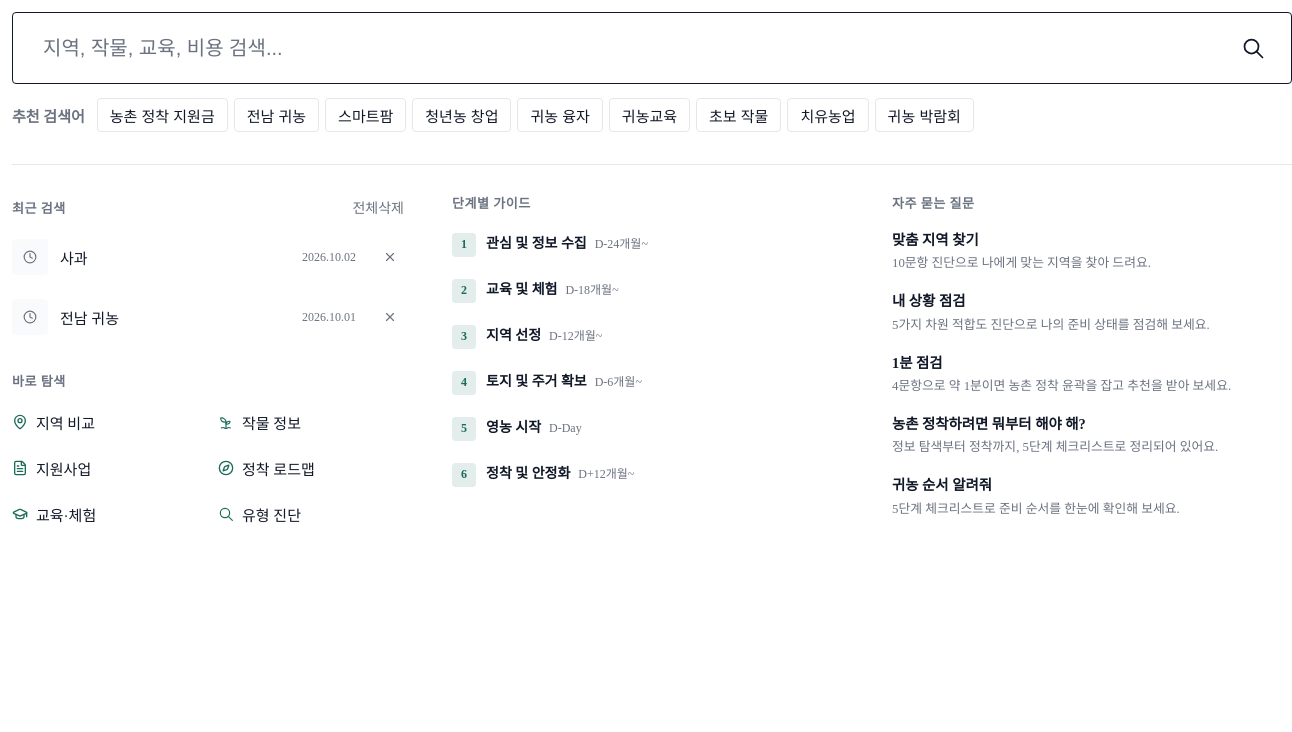
Test: 옵션 안에 대화형 요소가 없다 — 삭제·채우기 버튼은 listbox 밖 형제 (10/3 QA axe nested-interactive) › 자동완성: option 안 button 0, 채우기 버튼은 listbox 밖 — 누르면 입력창만 채운다
In the dropdown with placeholder "지역, 작물, 교육, 비용 검색...": (630, 48) [41,13,1219,83], type "사과"
Wait 200 ms
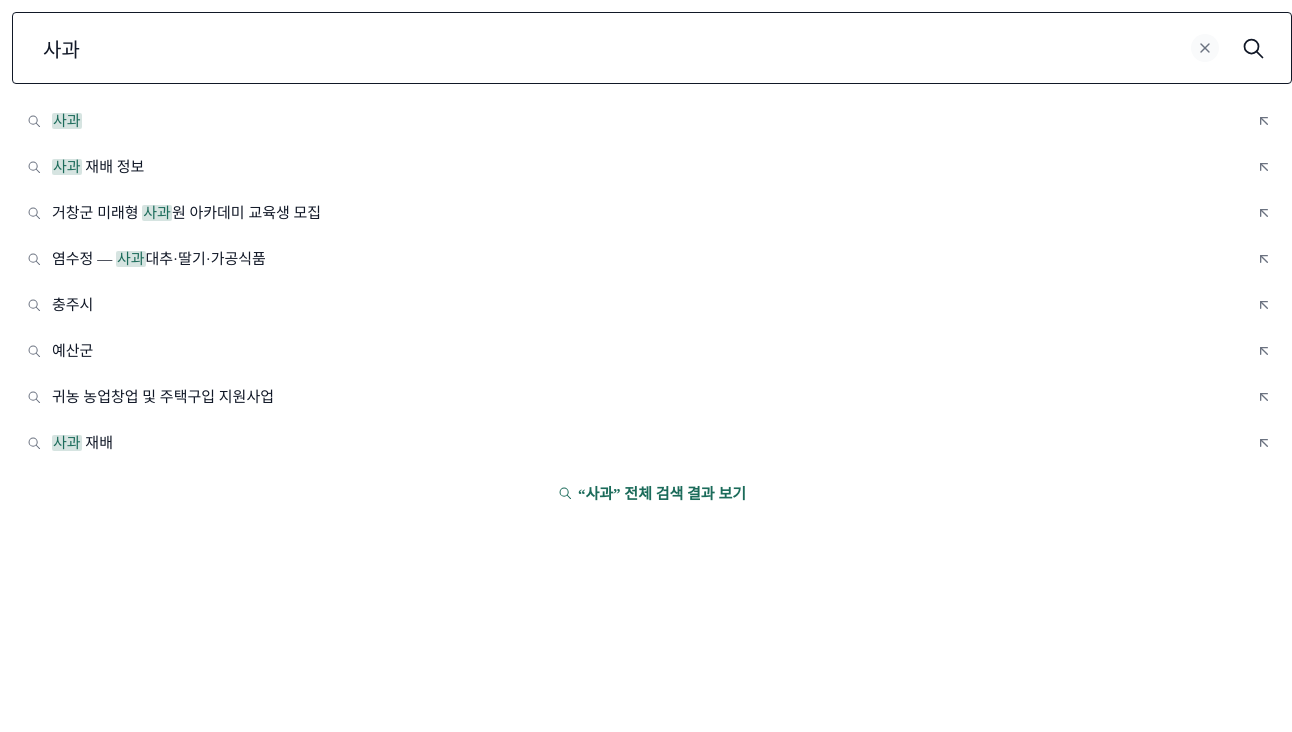
Click the button named "\"사과 재배 정보\" 입력창에 채우기": (1264, 167) [1250,153,1278,181]
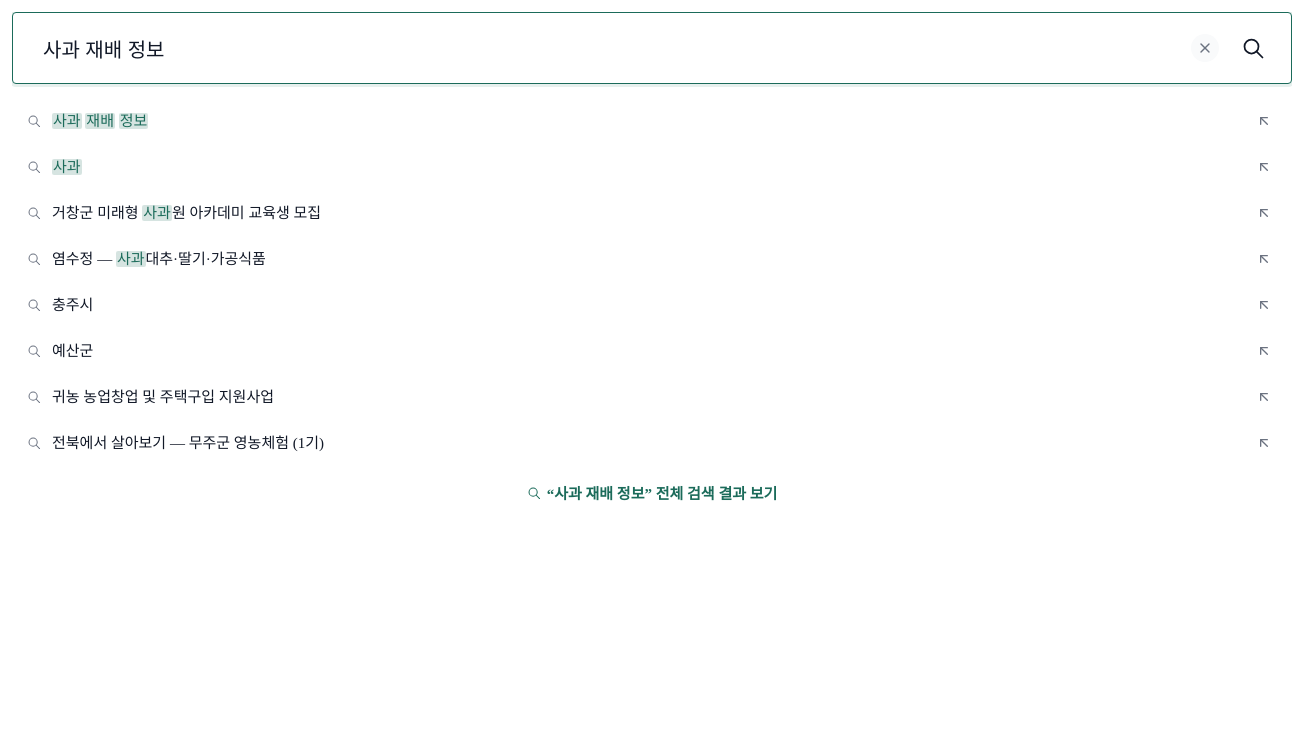
Expected: the dropdown named "통합 검색" holds "사과 재배 정보", [41,13,1183,83]
